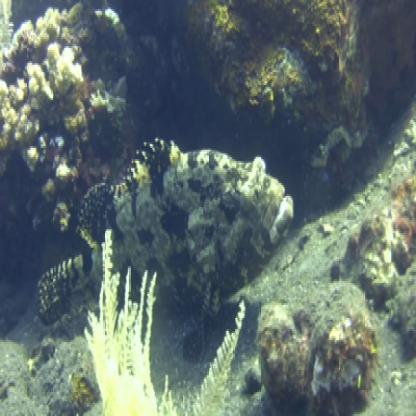Bio: (32, 132, 298, 364)
